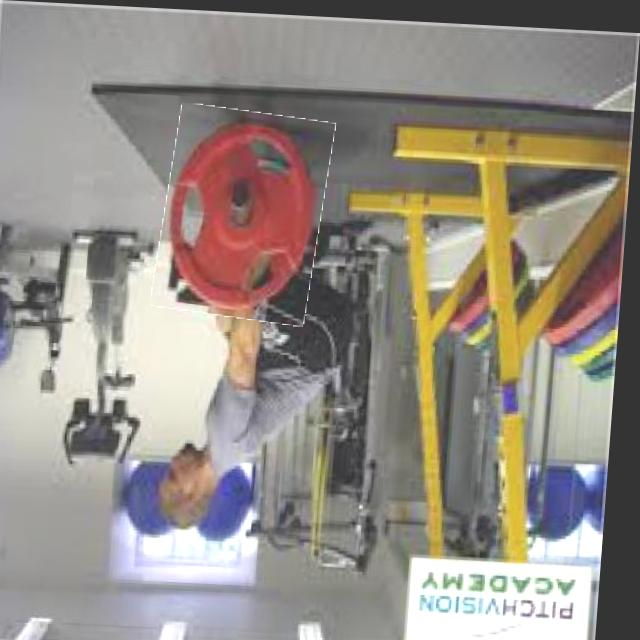barbell: (159, 104, 335, 322)
